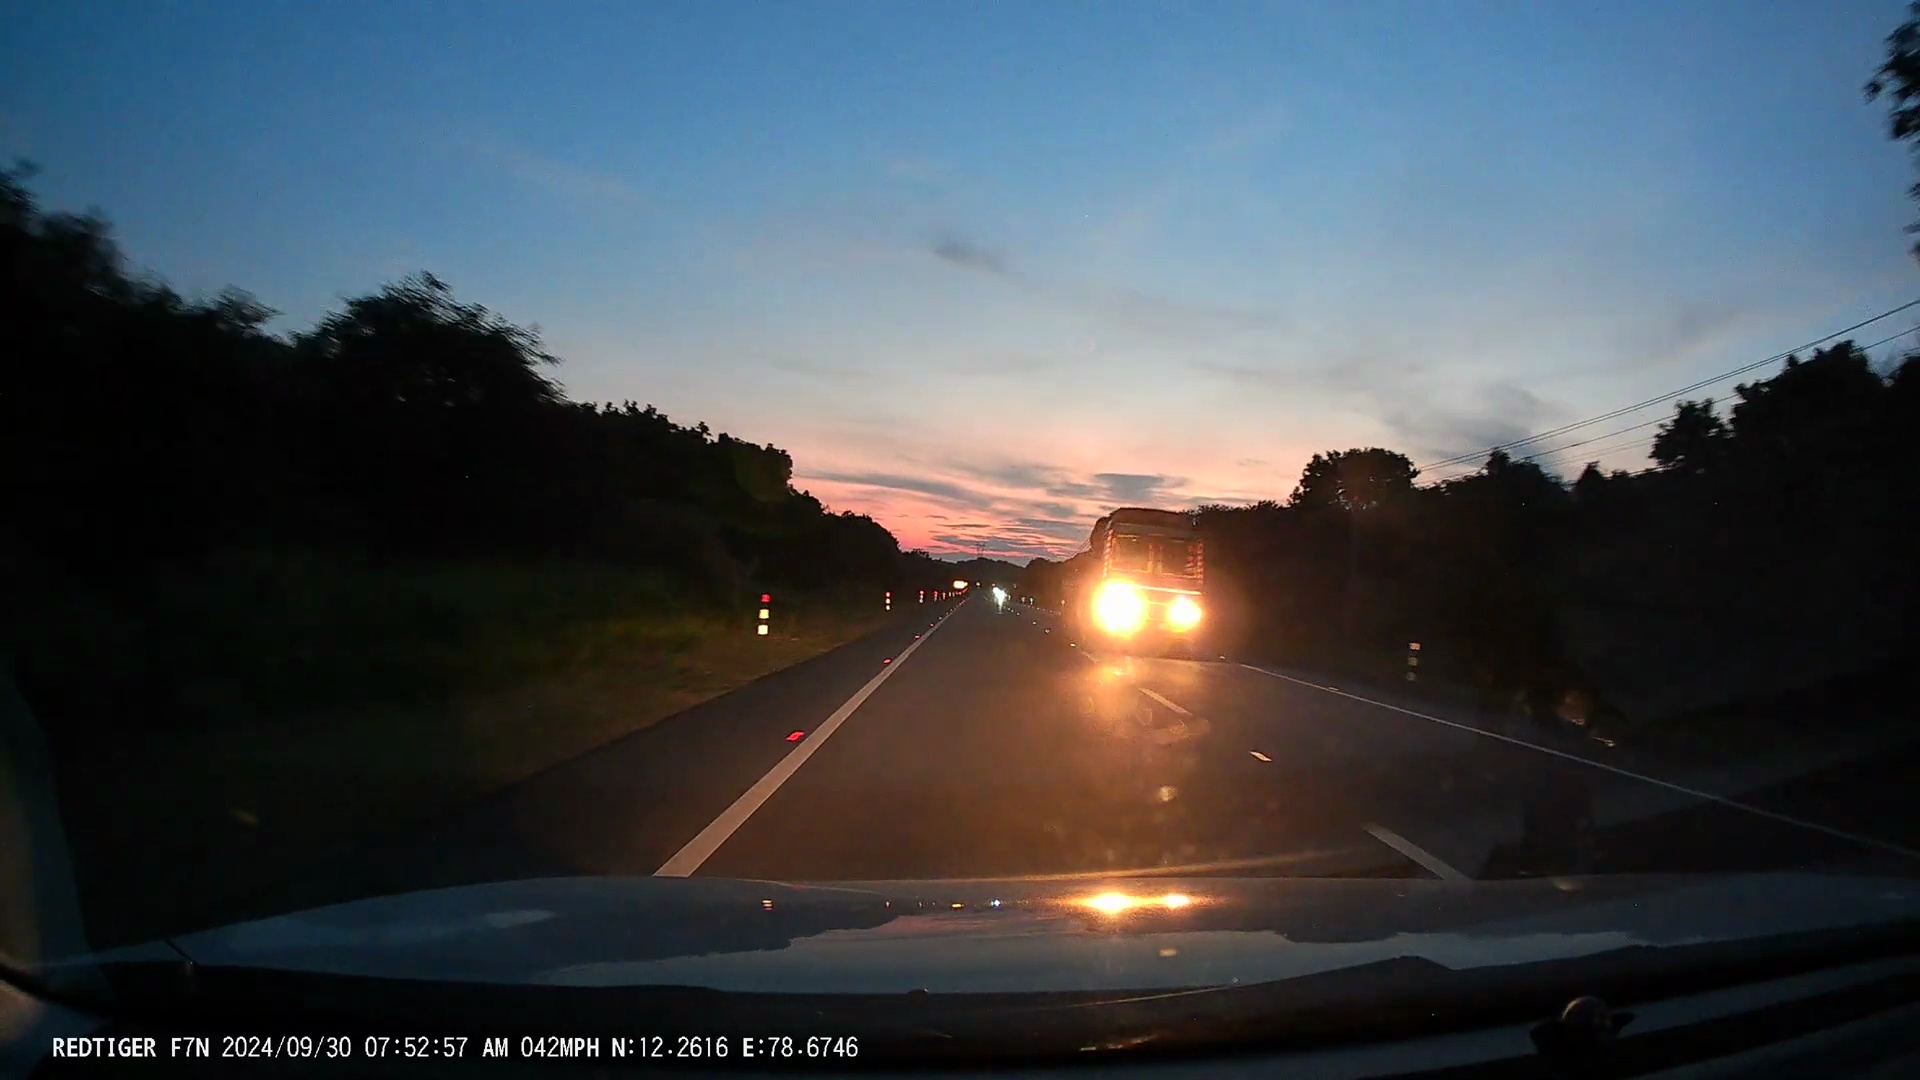four wheeler: (1054, 509, 1217, 661)
headlight: (1079, 575, 1153, 641), (1162, 583, 1207, 642), (992, 588, 1007, 607)
two wheeler: (986, 579, 1021, 618)
